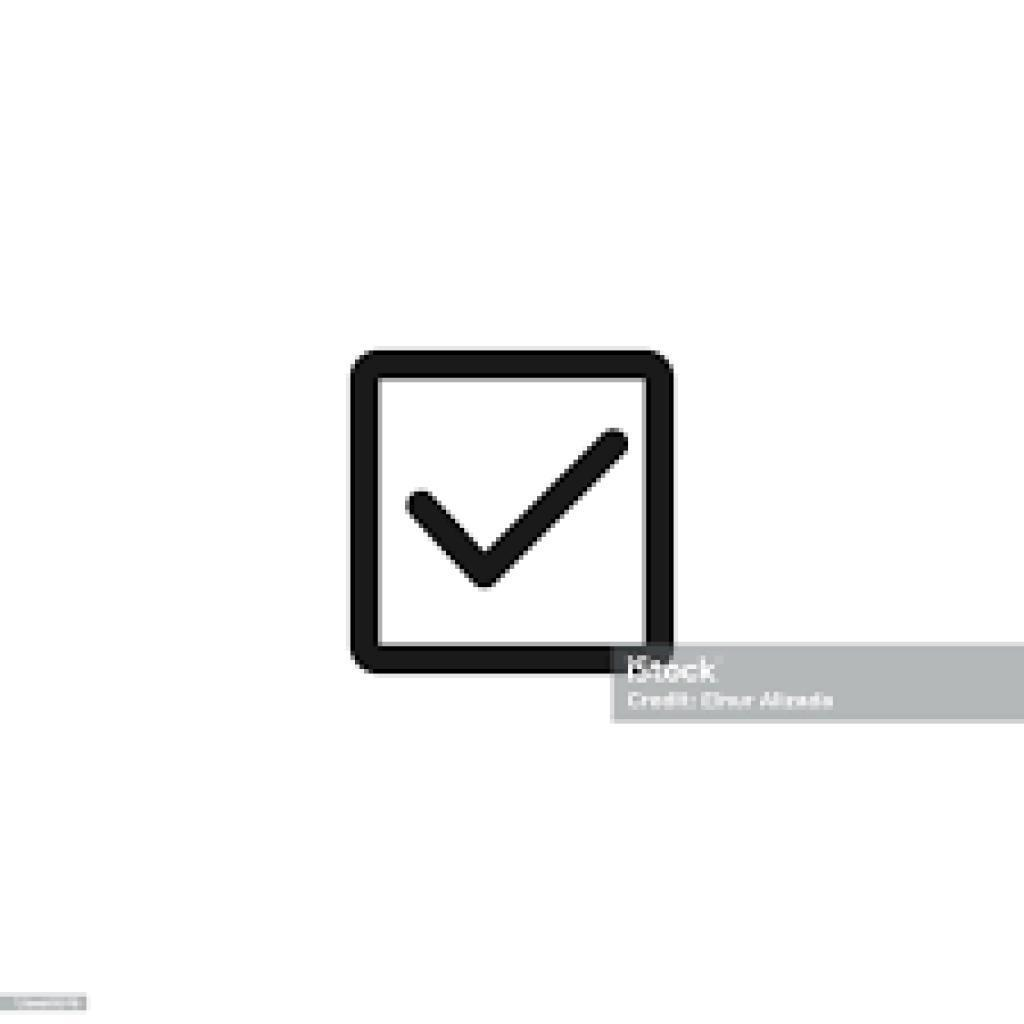checkbox: (351, 352, 675, 677)
